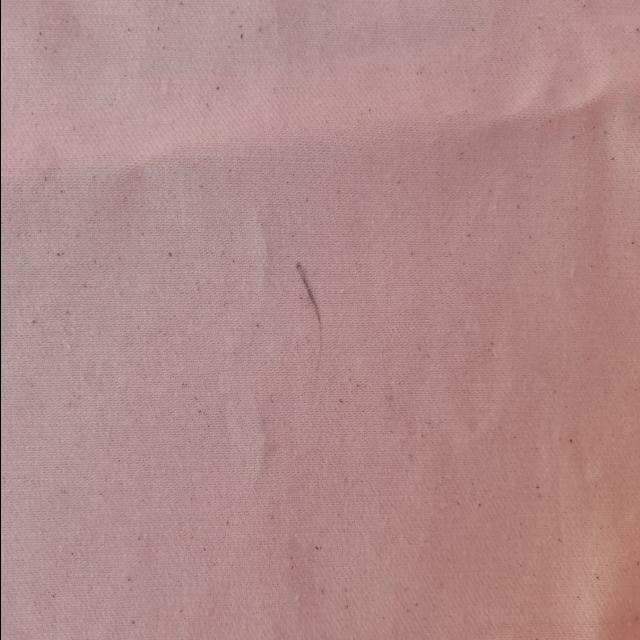taaaches: (286, 245, 338, 370)
